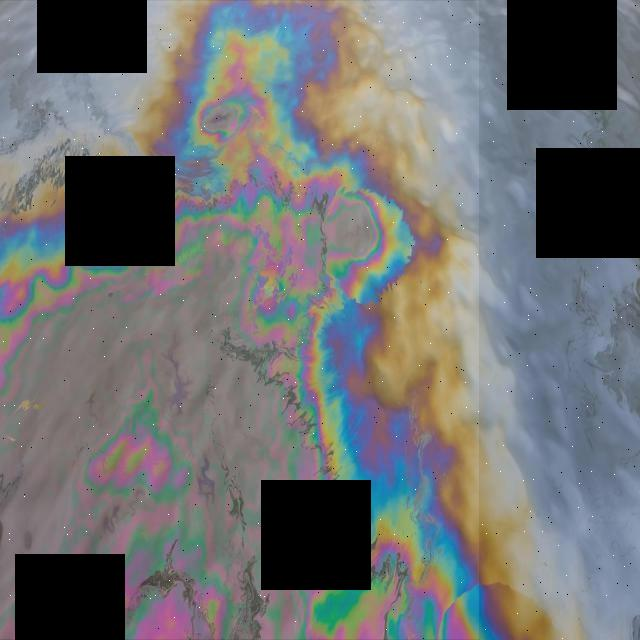oil spill: (0, 2, 479, 639)
